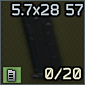FN Five-seveN 5.7x28 20-round magazine: (0, 0, 85, 85)
